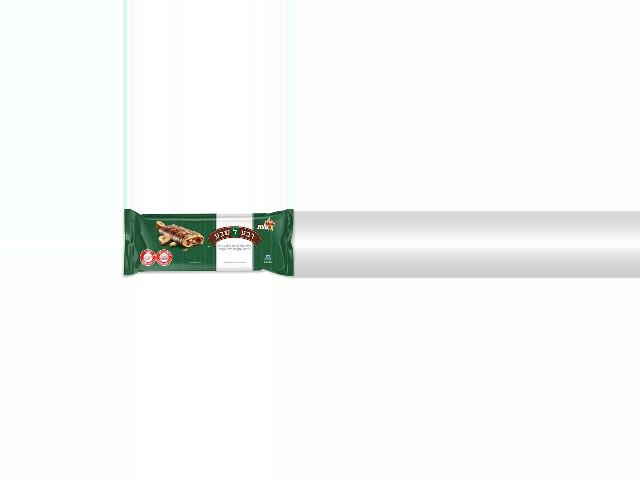chocolate: (122, 209, 296, 279)
